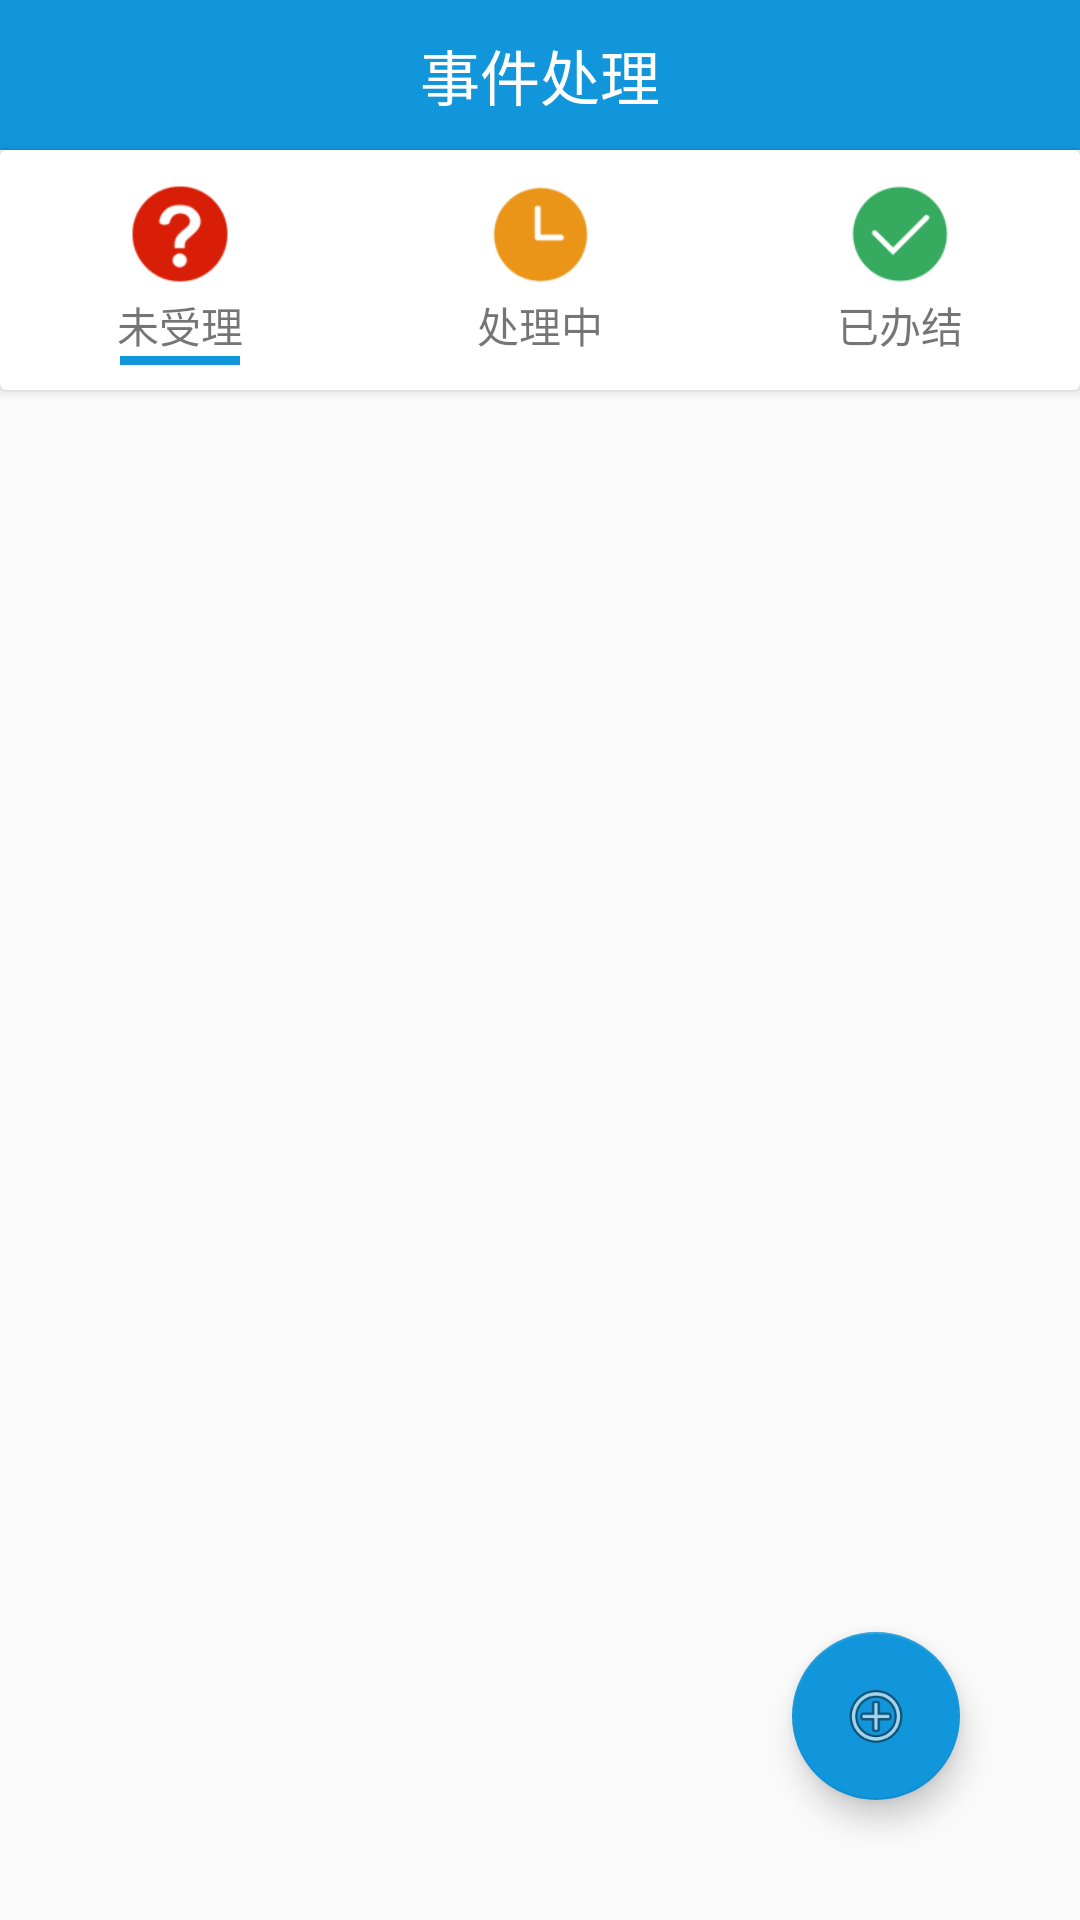

Locate icon controls on the screen. Image size 1080 × 1920, boxes as bbox=(x1, y1, x2, y2).
add: bbox=(792, 1632, 960, 1800)
time: bbox=(493, 187, 588, 282)
yes: bbox=(852, 186, 948, 282)
